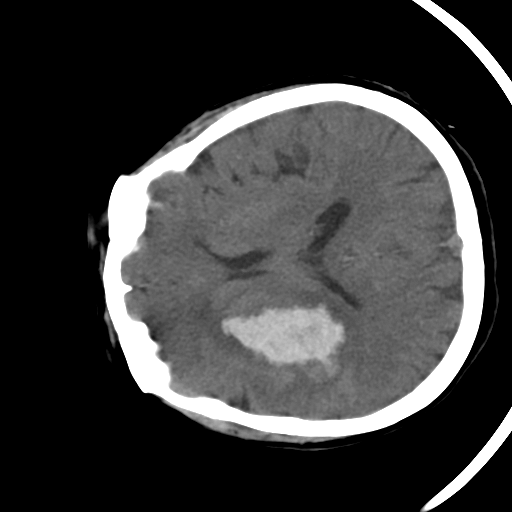a: (182, 273, 375, 398)
